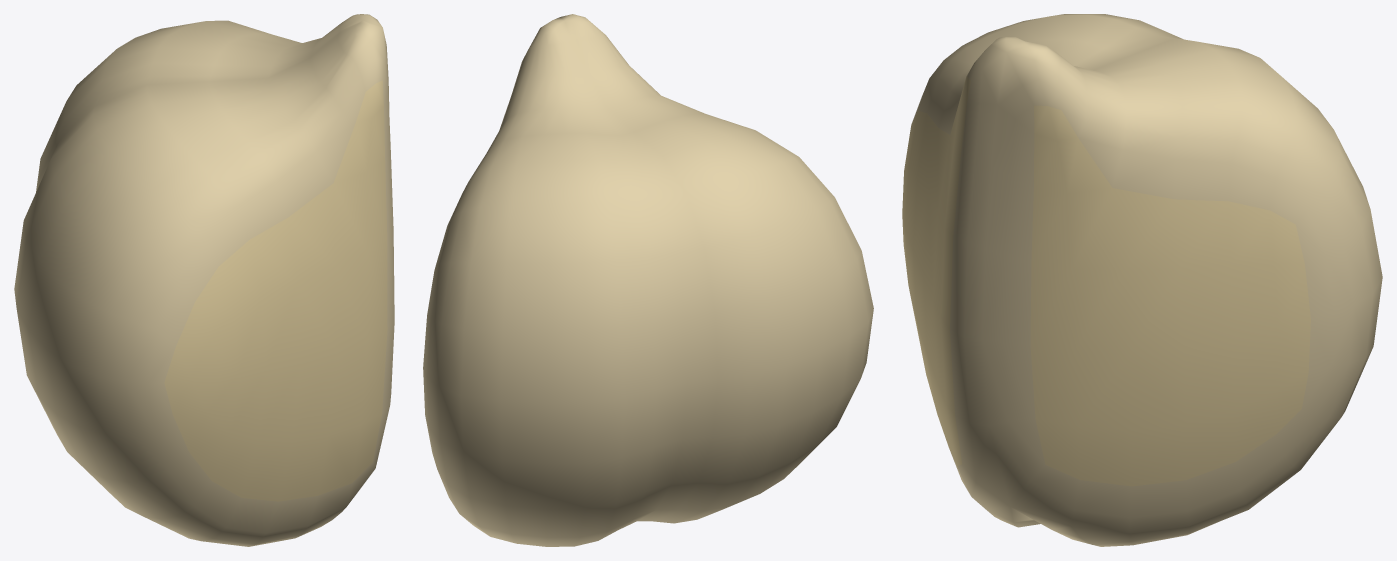
File: Garlicclove_02.dae
The picture shows the model from 3 angles, left to right: view 1: azimuth 30°, elevation 25°; view 2: azimuth 150°, elevation 25°; view 3: azimuth 270°, elevation 25°; orthographic projection. The views are drawn at different scales.
Visible parts, largest first — view 1: Garlicclove_02_LOD0; view 2: Garlicclove_02_LOD0; view 3: Garlicclove_02_LOD0.
Boxes of the visible parts, <box> form: Garlicclove_02_LOD0: <box>14,14,394,546</box>; Garlicclove_02_LOD0: <box>423,14,873,546</box>; Garlicclove_02_LOD0: <box>902,14,1382,546</box>.
Size of what is drawn, in the model's own units: 2.36 by 2.71 by 3.21.
